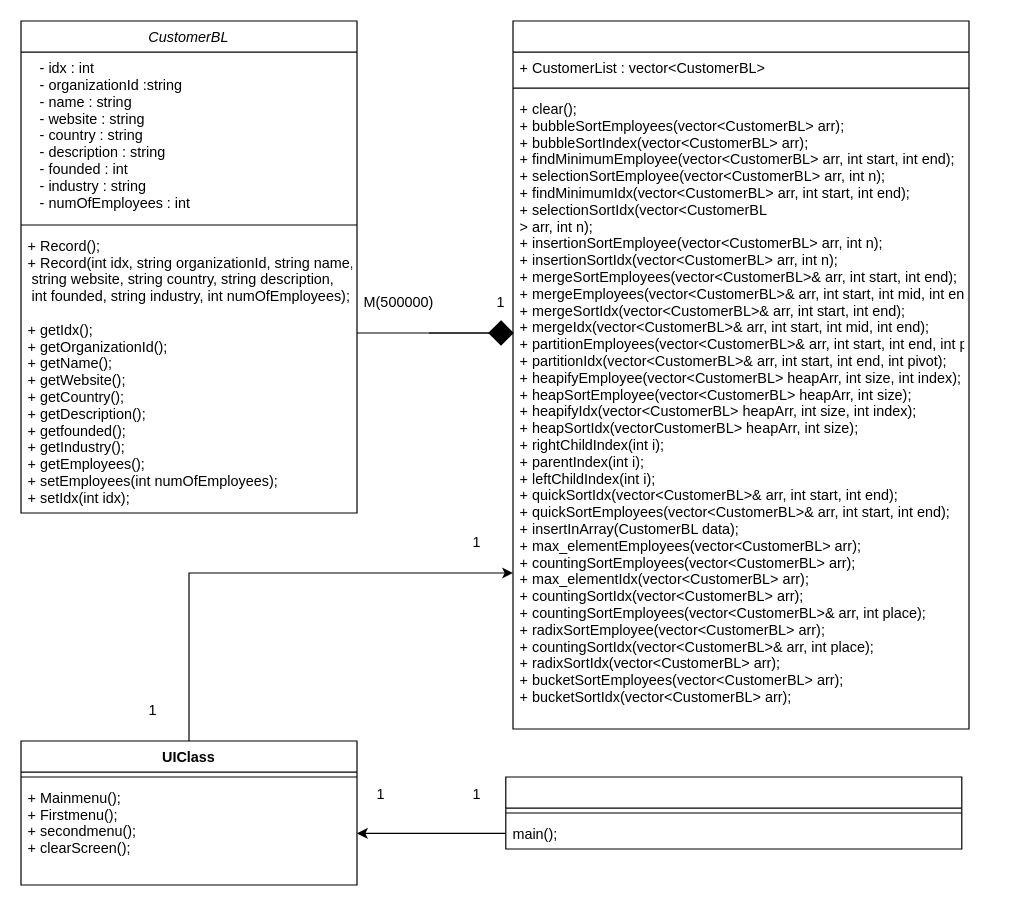
Some shapes in this 1019 by 910 pixel diagram are drawn without their labels. The box of each missing label's shape, as (x1, y1, x2, y2) in pixels:
CustomerDL: (512, 20, 969, 729)
SortingAlgorithmsComparisons: (505, 776, 962, 849)
